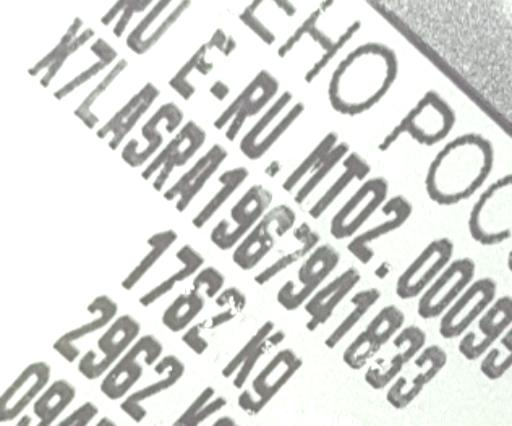letter: (29, 16, 95, 85), (141, 120, 205, 186), (96, 81, 160, 146), (232, 203, 296, 267), (212, 182, 274, 246), (122, 102, 184, 165), (254, 220, 318, 281), (54, 38, 118, 99), (76, 58, 134, 125), (278, 245, 338, 309), (166, 143, 226, 206), (346, 304, 404, 367), (366, 326, 424, 387), (389, 345, 447, 406), (304, 265, 360, 328), (191, 168, 249, 226), (324, 287, 378, 348)
